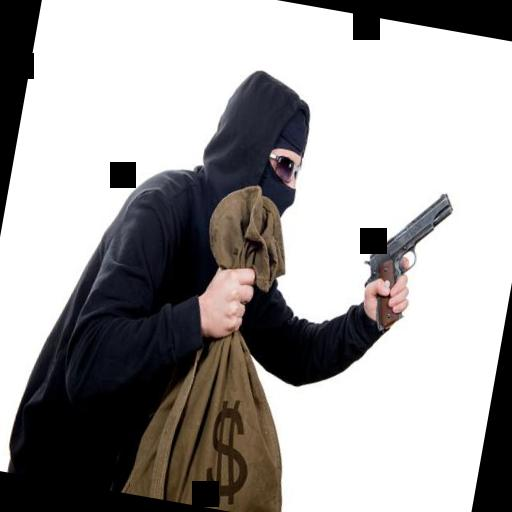Handgun: (350, 176, 456, 342)
